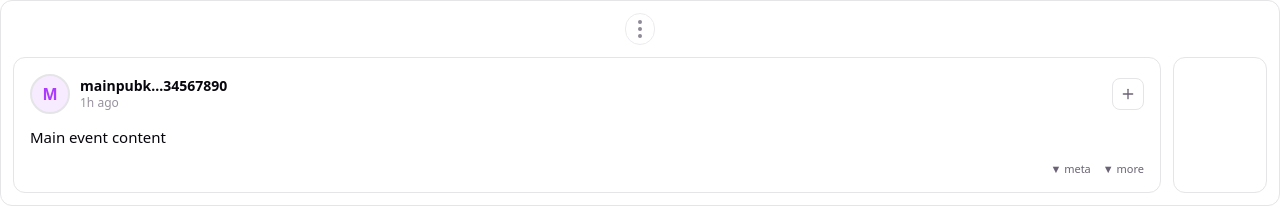
it: Thread › should show a clickable three-dot indicator when the parent is collapsed and expand it on click
Expected: the text "Parent event content" is not shown
What coordinates should you click on to do the following:
click the button named "Show parent event"
I would click on:
 (640, 29)
Its box is [625, 13, 655, 45].
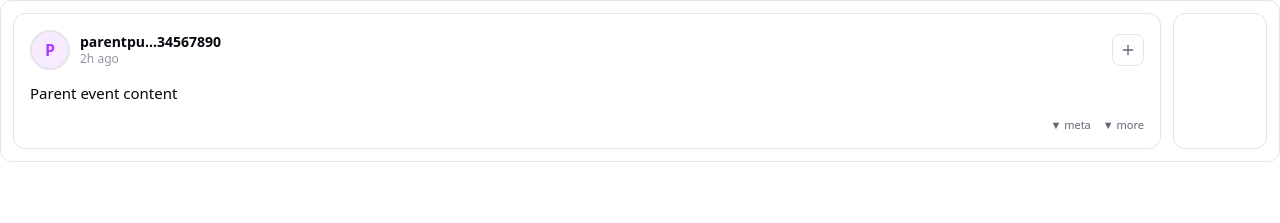
Result: the text "Parent event content" is shown at [30, 83, 177, 103]
